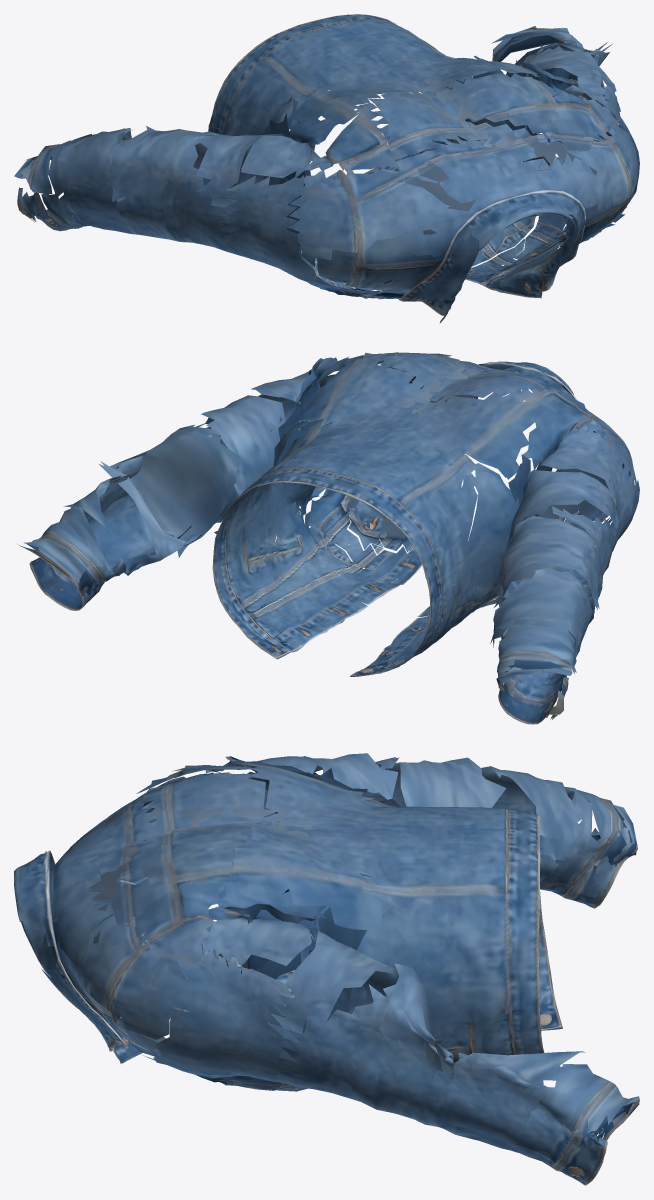
The model's file is adult-base-01.mobile.glb.
3 renders of one model, top to bottom at view 1: azimuth 30°, elevation 25°; view 2: azimuth 150°, elevation 25°; view 3: azimuth 270°, elevation 25°, orthographic. The views are drawn at different scales.
Parts seen in each view (by area): view 1: geometry_0; view 2: geometry_0; view 3: geometry_0.
Boxes of the visible parts, x1=… form: geometry_0: x1=14, y1=14, x2=639, y2=323; geometry_0: x1=19, y1=352, x2=639, y2=724; geometry_0: x1=14, y1=753, x2=639, y2=1185.
Size of the model in its own units: 0.00859 by 0.00302 by 0.00686.
1 material, 1 textured.
